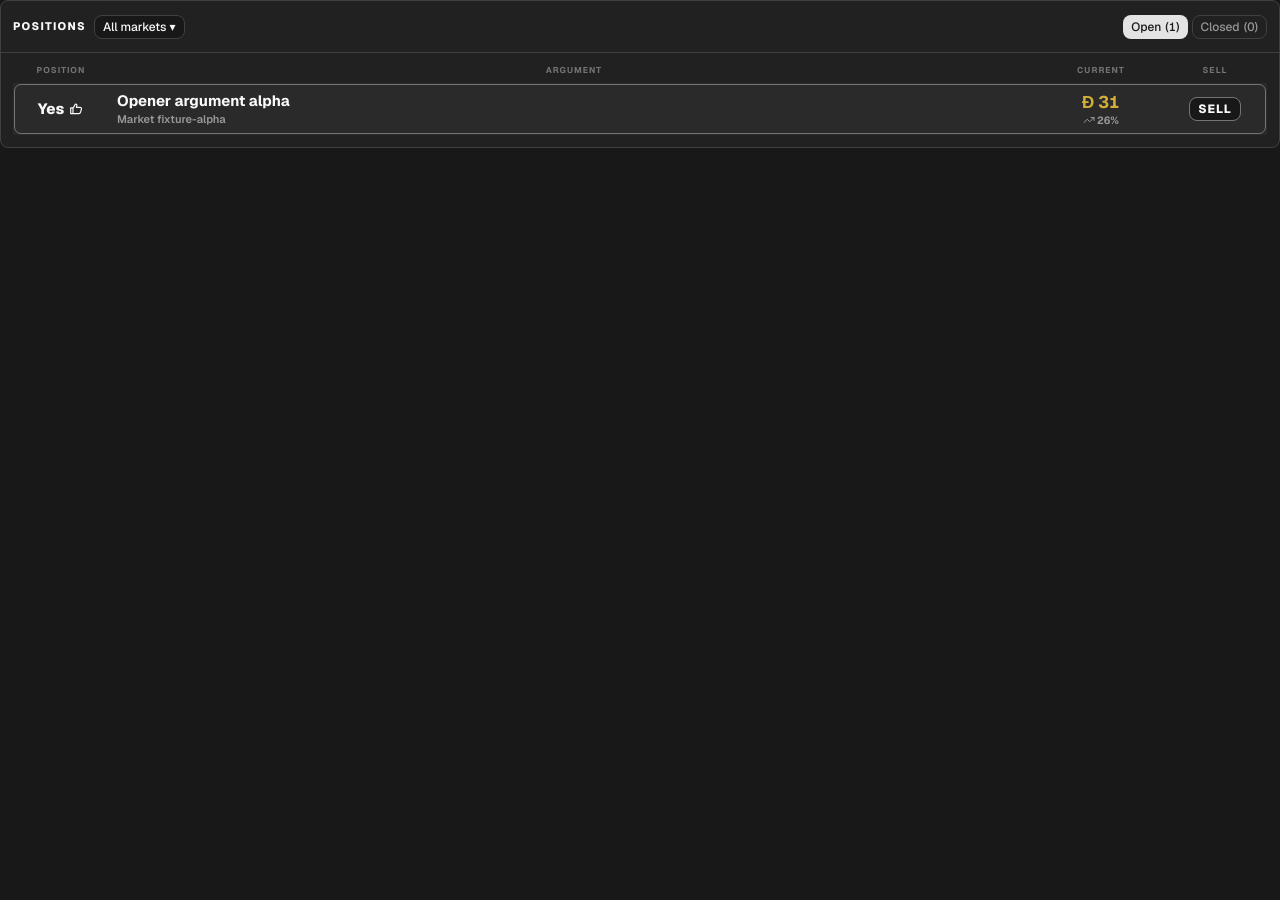
Test: MOBILE-2e — the phone sell, through its host › phone-host::the-body-lock-goes-ON-with-the-sheet-and-comes-back-OFF
Step 1. Click the button "Sell" → point(1215, 109), box [1189, 97, 1241, 121]
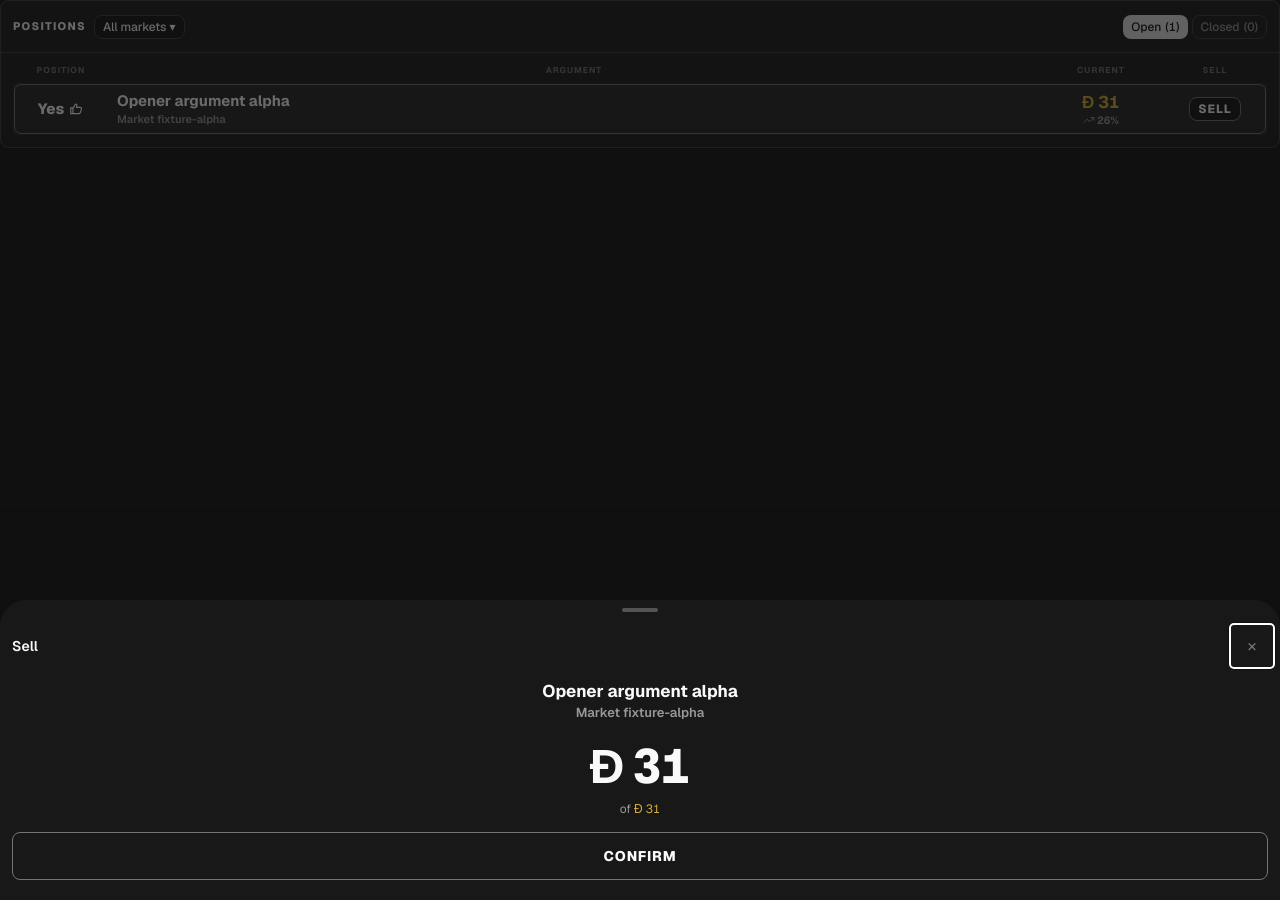
Step 2. Press Escape
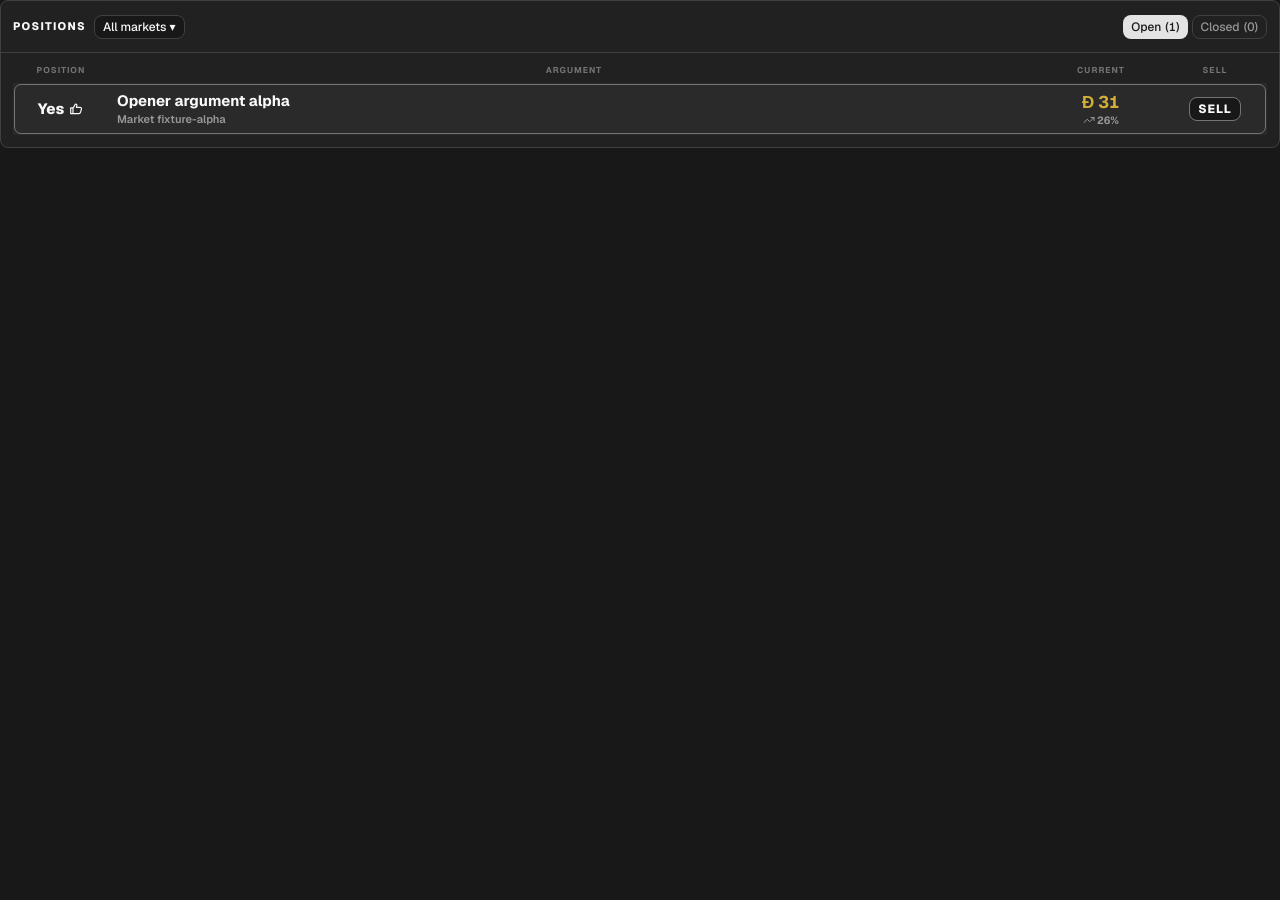
Result: the element with test id "phone-sheet-body" is gone
